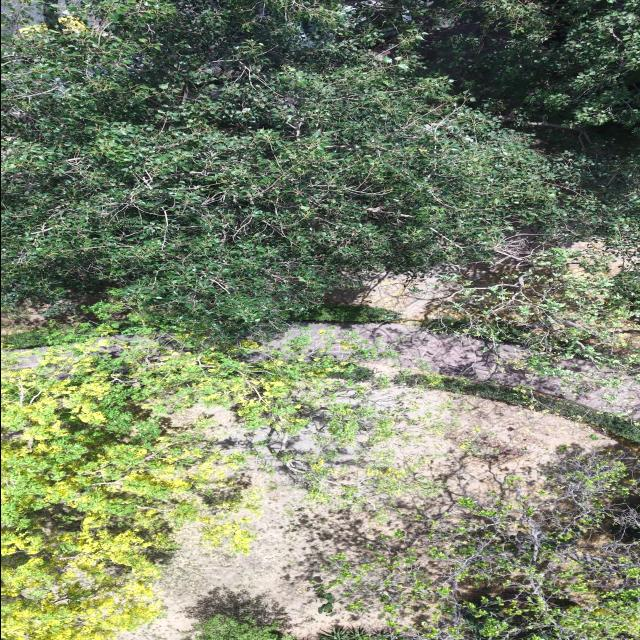DRY_AREA: (122, 388, 619, 639), (273, 246, 639, 420), (123, 462, 402, 639), (123, 463, 402, 639), (123, 464, 401, 639), (122, 474, 384, 639), (267, 322, 639, 434), (267, 322, 639, 420), (269, 323, 639, 419), (271, 324, 638, 411), (333, 386, 623, 495), (371, 388, 623, 500), (325, 237, 529, 321), (325, 272, 457, 321)
PATHWAYS: (268, 323, 639, 419), (269, 323, 639, 419)
VEGETATION_TREE: (1, 0, 639, 639), (1, 0, 639, 339), (1, 325, 443, 639), (1, 325, 349, 639), (1, 355, 216, 639), (321, 449, 639, 639), (422, 242, 639, 376), (393, 371, 639, 441), (194, 614, 294, 639), (296, 304, 402, 322), (319, 626, 393, 639)
